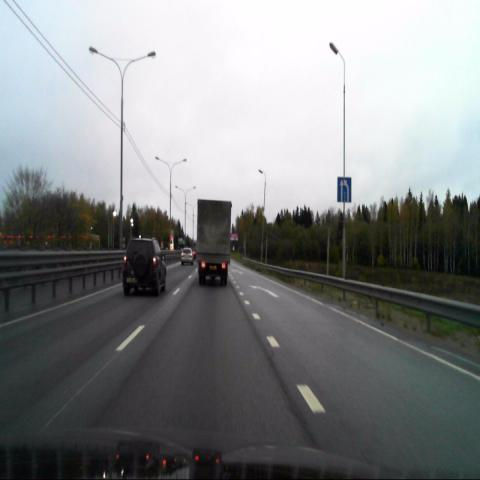5_15_5: (337, 176, 351, 202)
